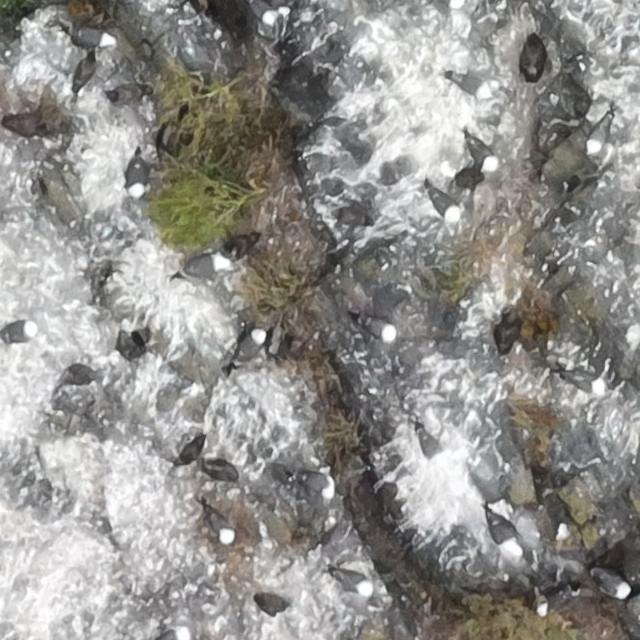umineko: (414, 424, 451, 470), (489, 513, 523, 557), (470, 136, 500, 173), (566, 370, 610, 394), (451, 72, 490, 98), (185, 254, 232, 274), (69, 26, 112, 46), (597, 572, 631, 597), (293, 472, 333, 493), (126, 156, 146, 198), (236, 328, 263, 359), (330, 569, 368, 591), (430, 191, 460, 218), (210, 512, 236, 542), (540, 590, 571, 613), (363, 318, 395, 340), (1, 323, 34, 343), (250, 1, 277, 23), (587, 120, 605, 152)
